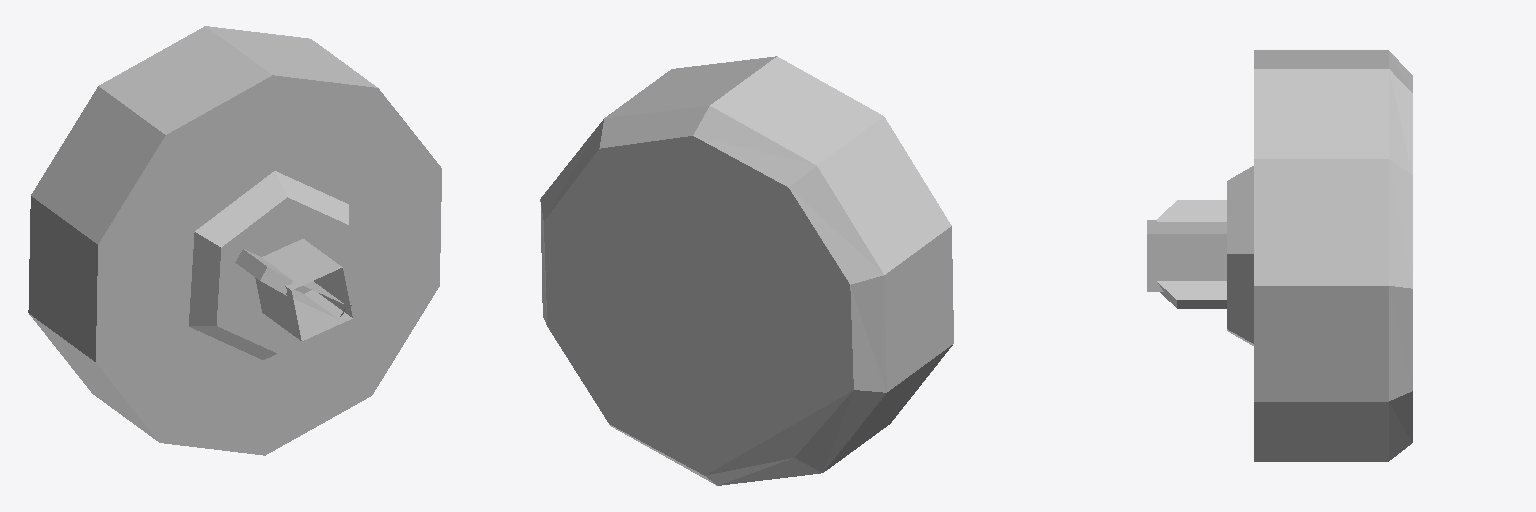
Rendered from wheel243.obj.
The picture shows the model from 3 angles: view 1: azimuth 30°, elevation 25°; view 2: azimuth 150°, elevation 25°; view 3: azimuth 270°, elevation 25°; orthographic projection.
Parts seen in each view (by area): view 1: wheel_low_textures; view 2: wheel_low_textures; view 3: wheel_low_textures.
Boxes of the visible parts, x1,y1,x2,y2 form: wheel_low_textures: [28, 26, 441, 455]; wheel_low_textures: [540, 56, 953, 485]; wheel_low_textures: [1147, 50, 1412, 461].
Size of the model in its own units: 1.49 by 1.56 by 0.9907.